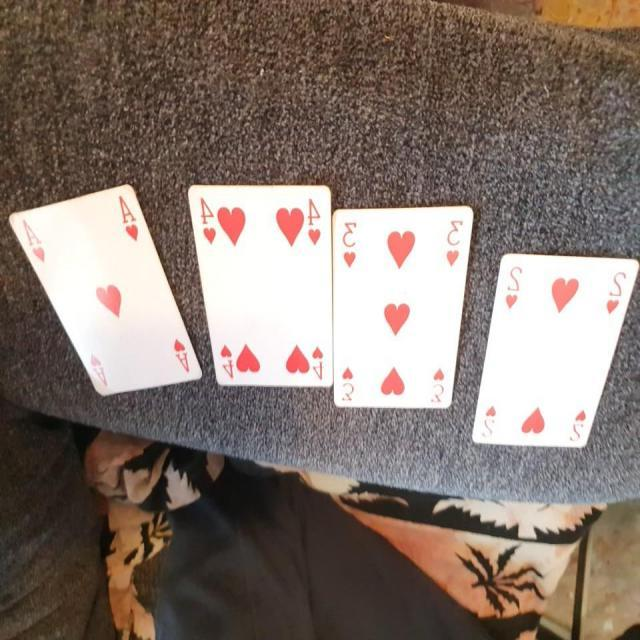2 of hearts: (463, 242, 640, 457)
3 of hearts: (333, 202, 478, 410)
4 of hearts: (186, 174, 336, 401)
ace of hearts: (8, 176, 203, 407)
